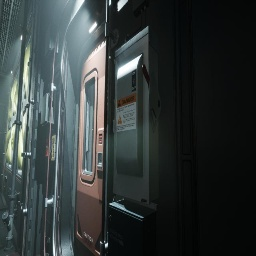EmergencyPhone ,: (49, 129, 57, 161)
FireAlarm ,: (45, 138, 51, 157)
SafetySwitchPanel ,: (113, 25, 161, 205)
